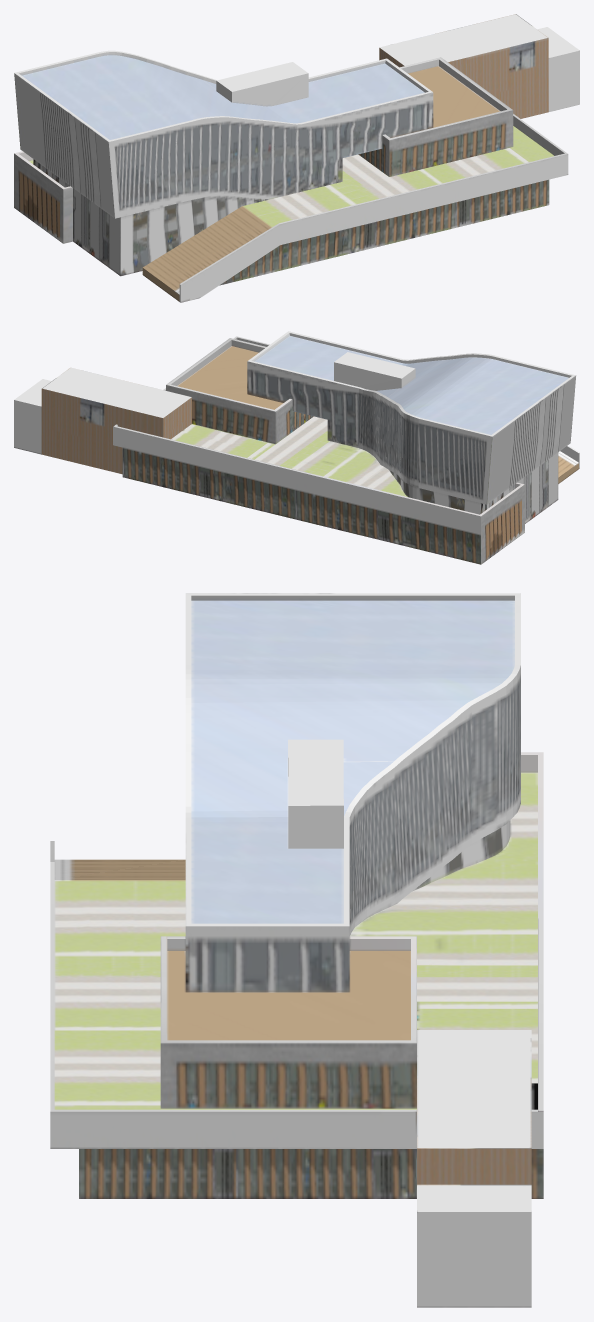
File: ICJ00005.glb
3 views of the same model, one above another, from view 1: azimuth 30°, elevation 25°; view 2: azimuth 150°, elevation 25°; view 3: azimuth 270°, elevation 25° (orthographic). The views are drawn at different scales.
Visible parts, largest first — view 1: MainBuilding; view 2: MainBuilding; view 3: MainBuilding.
Part boxes in pixels (bbox=[...]): MainBuilding: bbox=[14, 14, 579, 302]; MainBuilding: bbox=[14, 331, 579, 564]; MainBuilding: bbox=[50, 593, 543, 1307].
Bounding box in the file's own units: 1089 × 274 × 489.
Materials: 1 (1 with a texture image).
